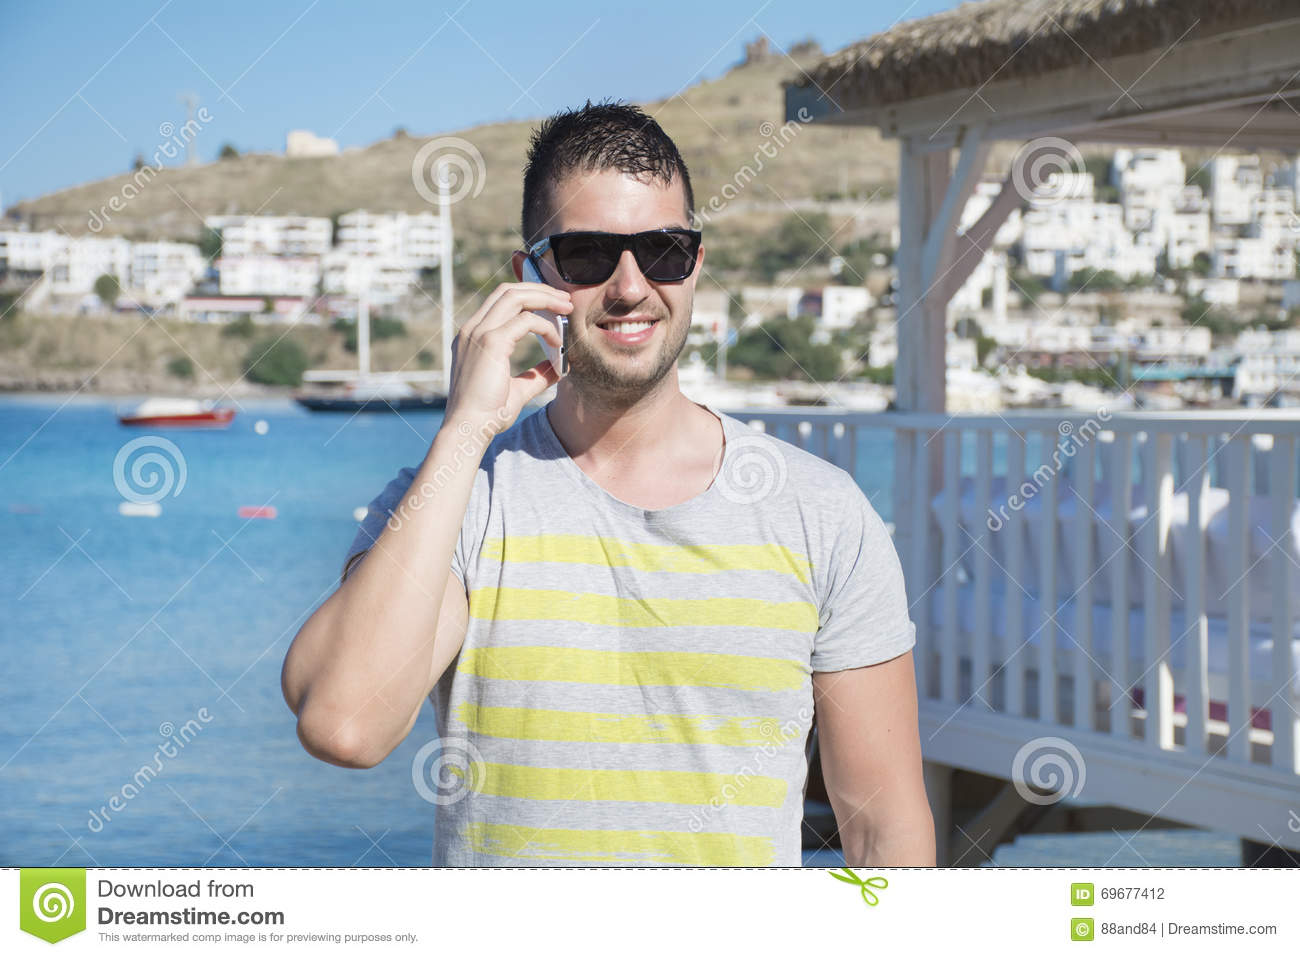phone: (508, 253, 569, 382)
talk: (447, 221, 690, 433)
